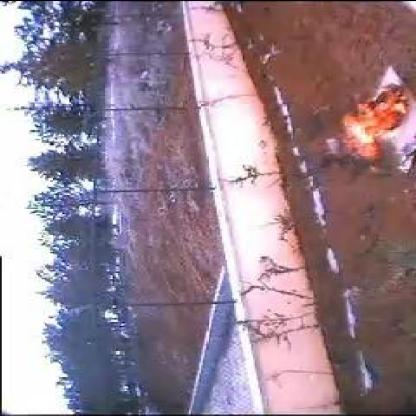-: (295, 124, 332, 141)
foggia-v2-map80-epoch100 - v1 4323: (334, 83, 412, 163)
